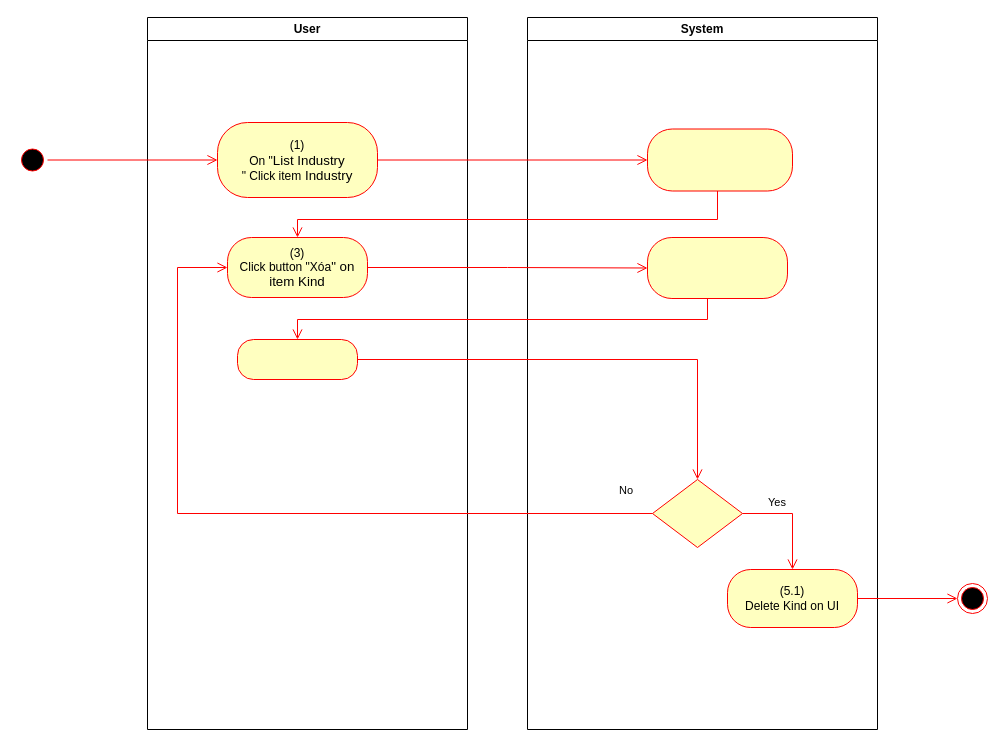
Image size: 1005x747. Some labels were removed from this diagram. Here are the shapes that lost their labels. From the top down, the box of each, then its label:
(646, 128, 792, 191): (2) Load " CRUD Kind"
(646, 236, 788, 298): (4) Load " Yes/No dialog"
(236, 338, 358, 380): (5) Click "Yes" or "No" button
